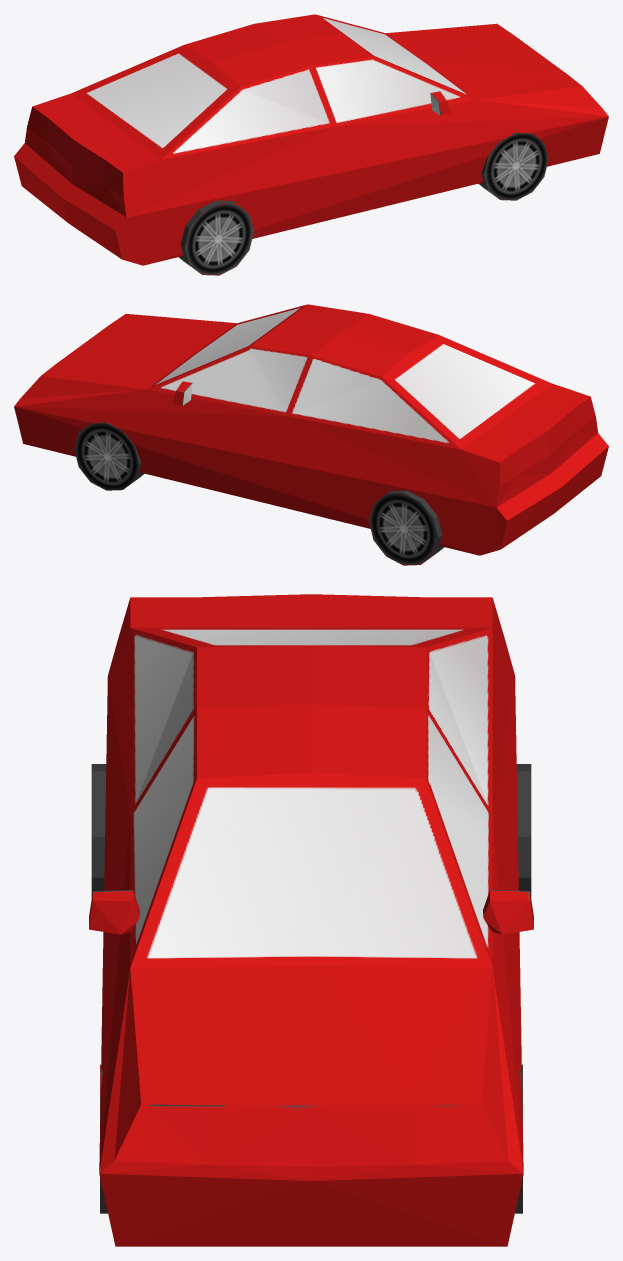
Rendered from car4.obj.
The picture shows the model from 3 angles, top to bottom: view 1: azimuth 30°, elevation 25°; view 2: azimuth 150°, elevation 25°; view 3: azimuth 270°, elevation 25°; orthographic projection. The views are drawn at different scales.
Visible parts, largest first — view 1: vehicleCar_GEO_Cube.000; view 2: vehicleCar_GEO_Cube.000; view 3: vehicleCar_GEO_Cube.000.
Part boxes in pixels (x1,y1,x2,y2): vehicleCar_GEO_Cube.000: (14,14,608,275); vehicleCar_GEO_Cube.000: (14,304,608,565); vehicleCar_GEO_Cube.000: (89,594,533,1246).
Size of the model in its own units: 0.349 by 0.1103 by 0.1359.
Materials: 1 (1 with a texture image).
